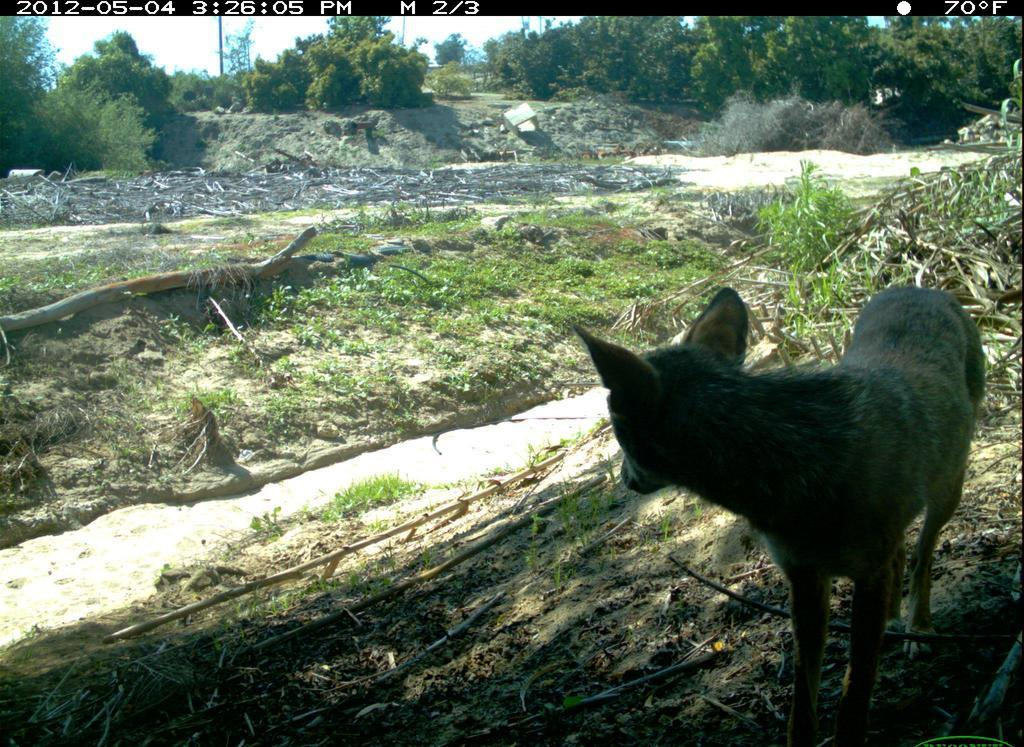coyote: (554, 267, 997, 747)
